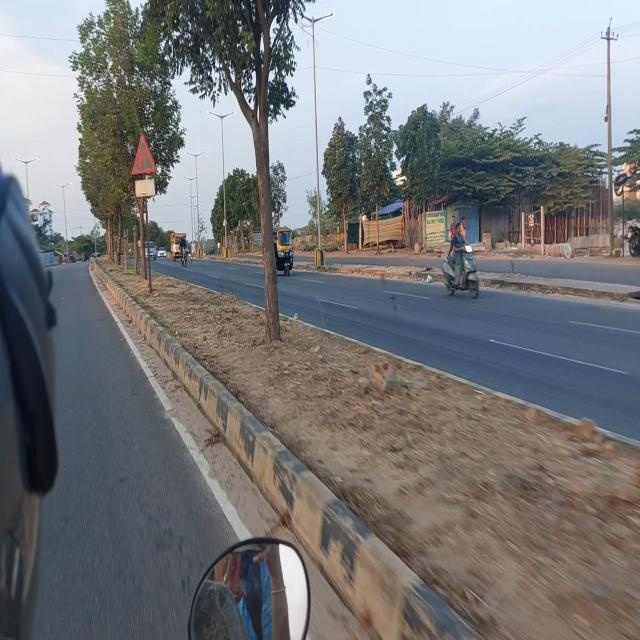bien_nguy_hiem: (130, 130, 156, 176)
